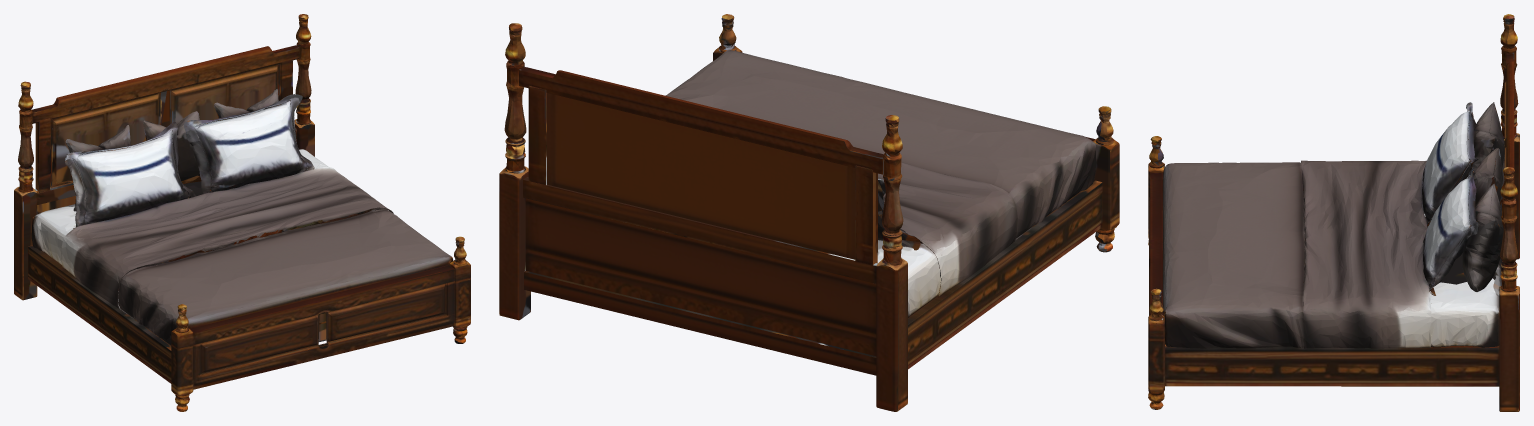
Rendered from edited_mesh.glb.
The picture shows the model from 3 angles, left to right: view 1: azimuth 30°, elevation 25°; view 2: azimuth 150°, elevation 25°; view 3: azimuth 270°, elevation 25°; orthographic projection. The views are drawn at different scales.
Visible parts, largest first — view 1: solid_001_wire; view 2: solid_001_wire; view 3: solid_001_wire.
Part boxes in pixels (x1,y1,x2,y2): solid_001_wire: (14, 14, 470, 411); solid_001_wire: (499, 14, 1119, 411); solid_001_wire: (1148, 14, 1519, 411).
Size of the model in its own units: 1.68 by 1.16 by 1.63.
Materials: 1 (1 with a texture image).
